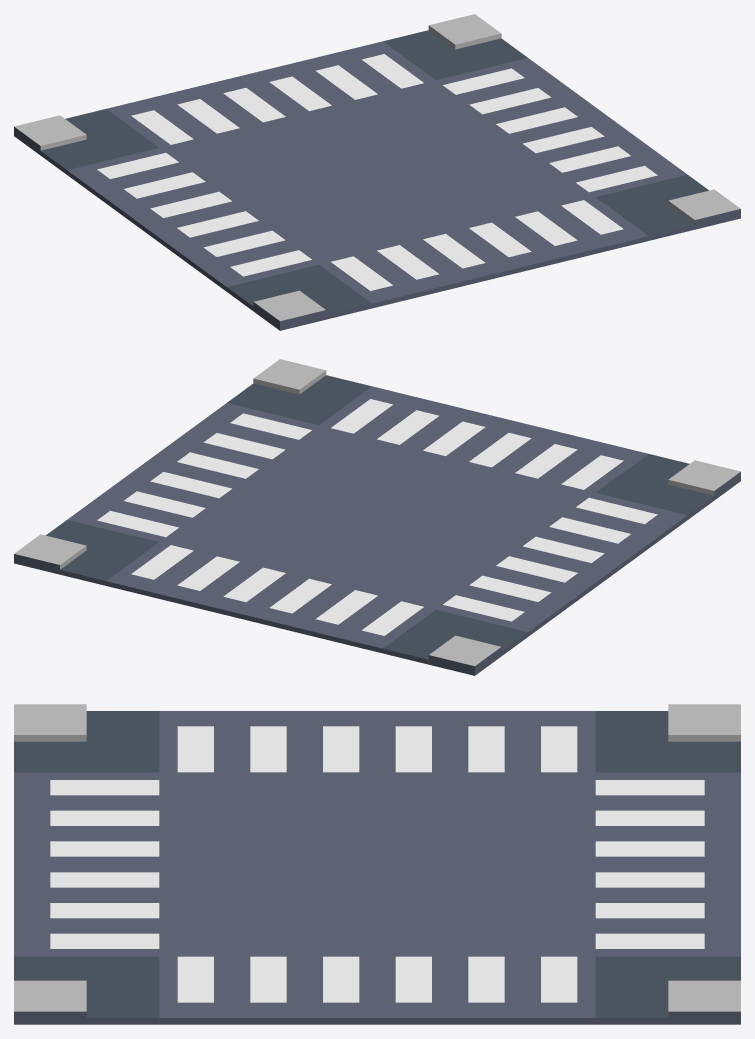
File: SM_Road_Crossroad_Path.fbx
3 views of the same model, one above another, from view 1: azimuth 30°, elevation 25°; view 2: azimuth 150°, elevation 25°; view 3: azimuth 270°, elevation 25° (orthographic). The views are drawn at different scales.
Visible parts, largest first — view 1: SM_Road_Crossroad_Path; view 2: SM_Road_Crossroad_Path; view 3: SM_Road_Crossroad_Path.
Part boxes in pixels (<box>): SM_Road_Crossroad_Path: <box>14,14,740,330</box>; SM_Road_Crossroad_Path: <box>14,359,740,675</box>; SM_Road_Crossroad_Path: <box>14,704,740,1024</box>.
Bounding box in the file's own units: 1000 × 20 × 1000.
